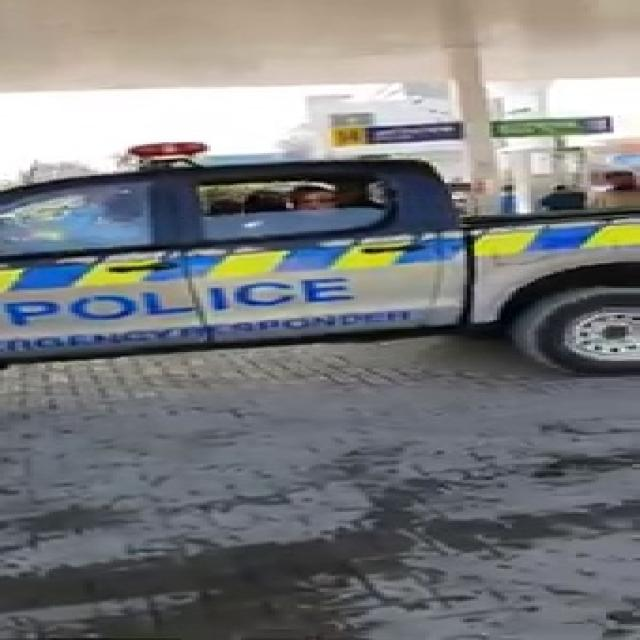police: (0, 171, 640, 357)
